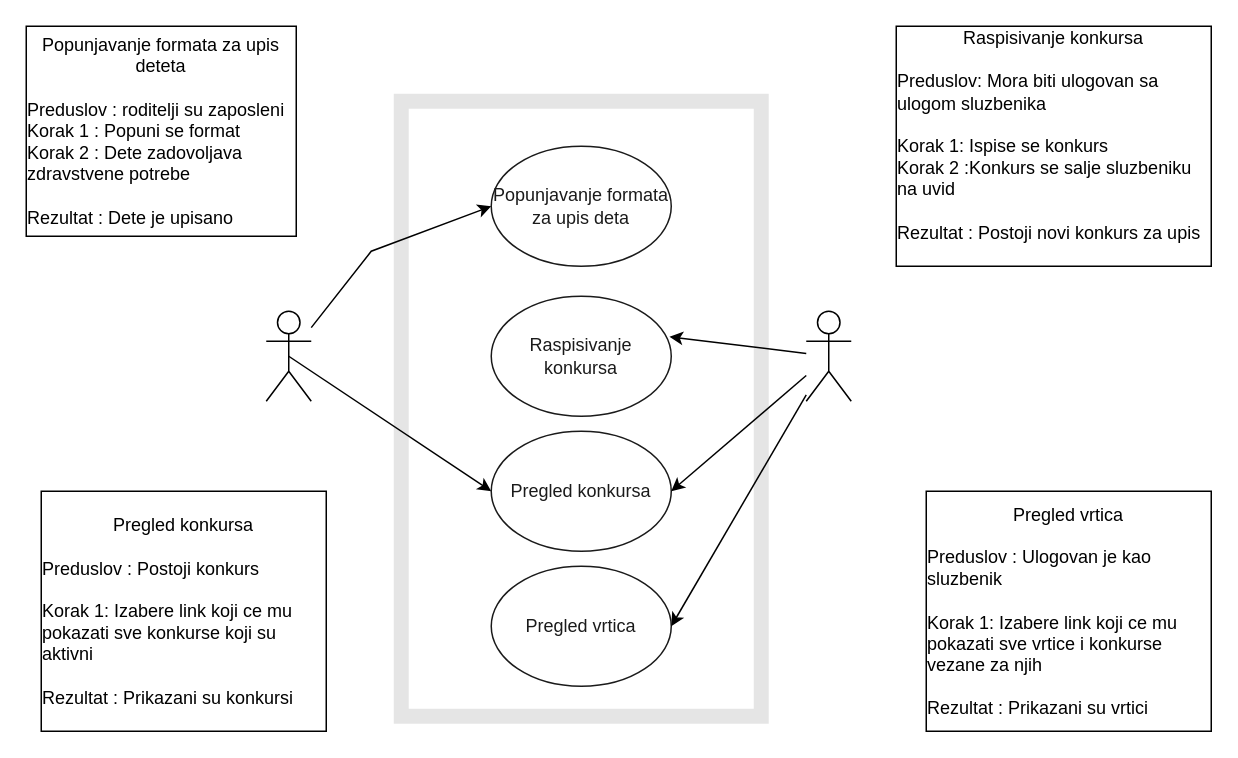
This 1238x758 diagram has some shape labels left out. The shapes that lost their labels are listed below. From the top down, each one's box as (x1, y1, x2, y2) in pixels, then its label:
(265, 310, 311, 401): Roditelj
(805, 310, 851, 401): Sluzbenik
